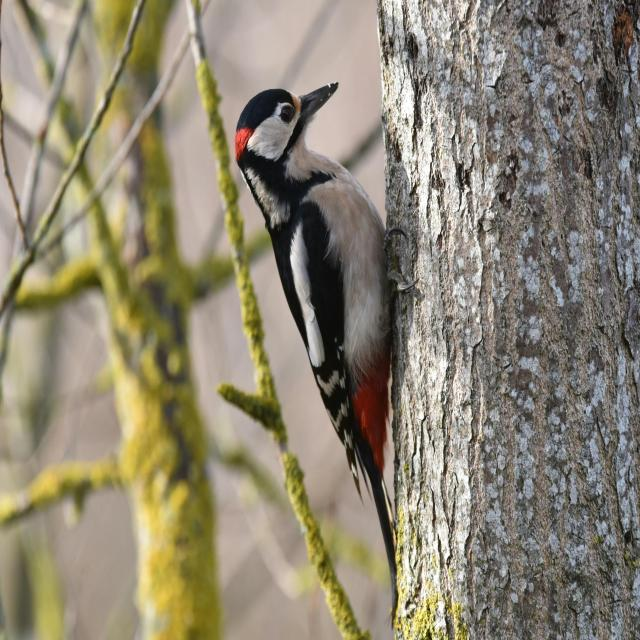Woodpecker: (235, 76, 396, 540)
